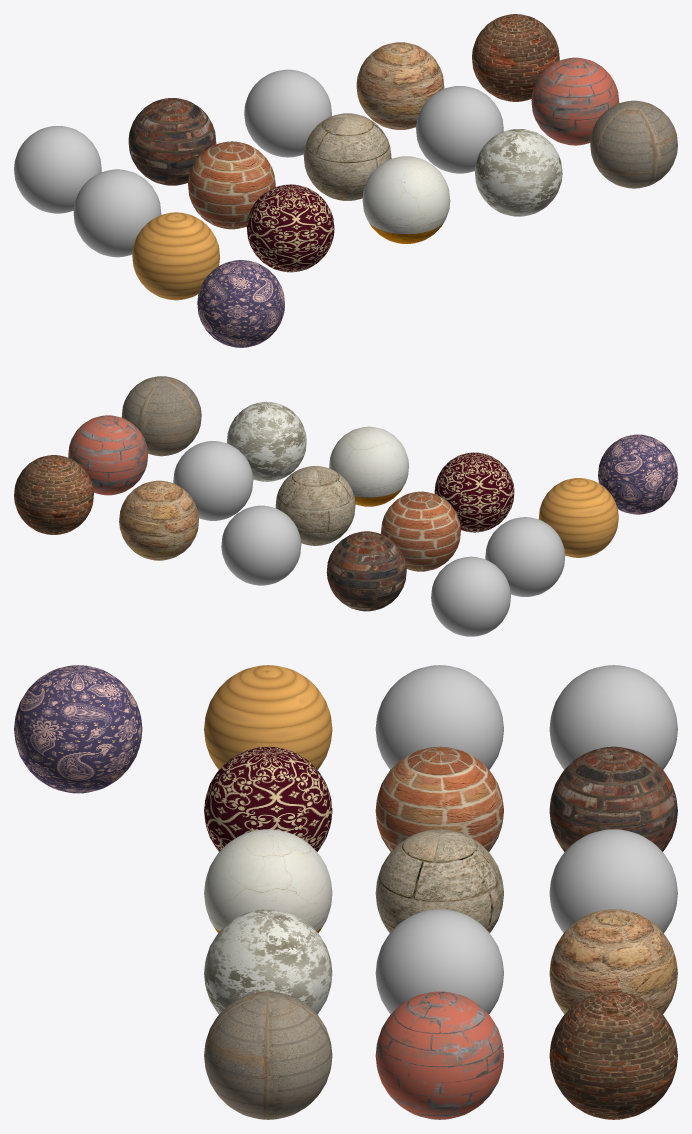
File: Materiales.fbx
The picture shows the model from 3 angles, top to bottom: view 1: azimuth 30°, elevation 25°; view 2: azimuth 150°, elevation 25°; view 3: azimuth 270°, elevation 25°; orthographic projection. The views are drawn at different scales.
Visible parts, largest first — view 1: Sphere.011, Sphere.013, Sphere.014, Sphere.012, Sphere.015, Sphere.010, Sphere.002, Sphere, Sphere.001, Sphere.003, Sphere.004, Sphere.005 (+4 smaller); view 2: Sphere.003, Sphere, Sphere.002, Sphere.001, Sphere.004, Sphere.015, Sphere.009, Sphere.007, Sphere.006, Sphere.005, Sphere.008, Sphere.014 (+4 smaller); view 3: Sphere.009, Sphere.004, Sphere.015, Sphere.014, Sphere.001, Sphere.011, Sphere.006, Sphere.003, Sphere.013, Sphere.008, Sphere, Sphere.010 (+4 smaller).
Boxes of the visible parts, box(x1,y1,x2,y2) form: Sphere.011: box(246, 184, 334, 272); Sphere.013: box(474, 129, 562, 216); Sphere.014: box(590, 100, 677, 188); Sphere.012: box(362, 156, 450, 243); Sphere.015: box(197, 260, 284, 347); Sphere.010: box(132, 212, 219, 300); Sphere.002: box(244, 69, 331, 157); Sphere: box(14, 126, 101, 213); Sphere.001: box(128, 98, 216, 185); Sphere.003: box(356, 42, 444, 129); Sphere.004: box(472, 14, 559, 101); Sphere.005: box(73, 169, 161, 257); Sphere.003: box(119, 480, 198, 560); Sphere: box(431, 556, 510, 636); Sphere.002: box(221, 505, 301, 585); Sphere.001: box(326, 531, 406, 611); Sphere.004: box(14, 455, 93, 534); Sphere.015: box(598, 434, 677, 514); Sphere.009: box(68, 415, 147, 495); Sphere.007: box(275, 466, 355, 545); Sphere.006: box(381, 491, 460, 571); Sphere.005: box(485, 517, 565, 596); Sphere.008: box(173, 441, 253, 520); Sphere.014: box(121, 376, 201, 456); Sphere.009: box(375, 991, 503, 1119); Sphere.004: box(549, 991, 677, 1119); Sphere.015: box(14, 665, 142, 793); Sphere.014: box(204, 991, 332, 1119); Sphere.001: box(549, 746, 677, 851); Sphere.011: box(204, 746, 332, 851); Sphere.006: box(375, 746, 503, 851); Sphere.003: box(549, 909, 677, 1014); Sphere.013: box(204, 909, 332, 1014); Sphere.008: box(375, 909, 503, 1014); Sphere: box(549, 665, 677, 769); Sphere.010: box(204, 665, 332, 769).
Bounding box in the file's own units: 872 × 124 × 643.
